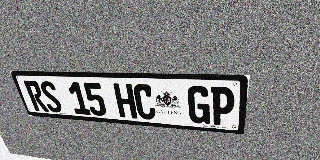1: (66, 82, 91, 115)
5: (83, 82, 108, 116)
C: (132, 84, 156, 120)
G: (187, 86, 210, 124)
H: (113, 83, 137, 119)
P: (211, 86, 235, 126)
R: (23, 80, 49, 112)
S: (38, 81, 64, 113)
